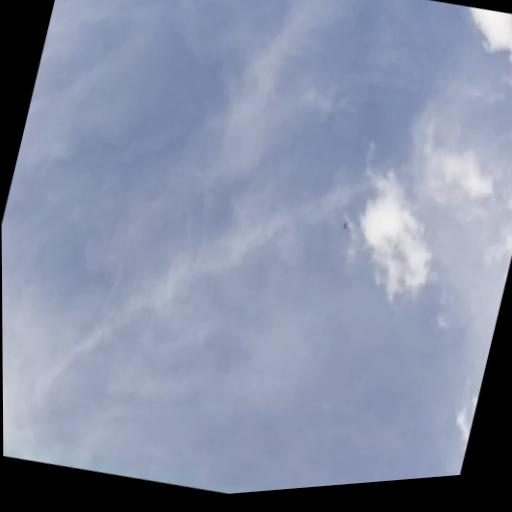drones: (335, 215, 357, 242)
